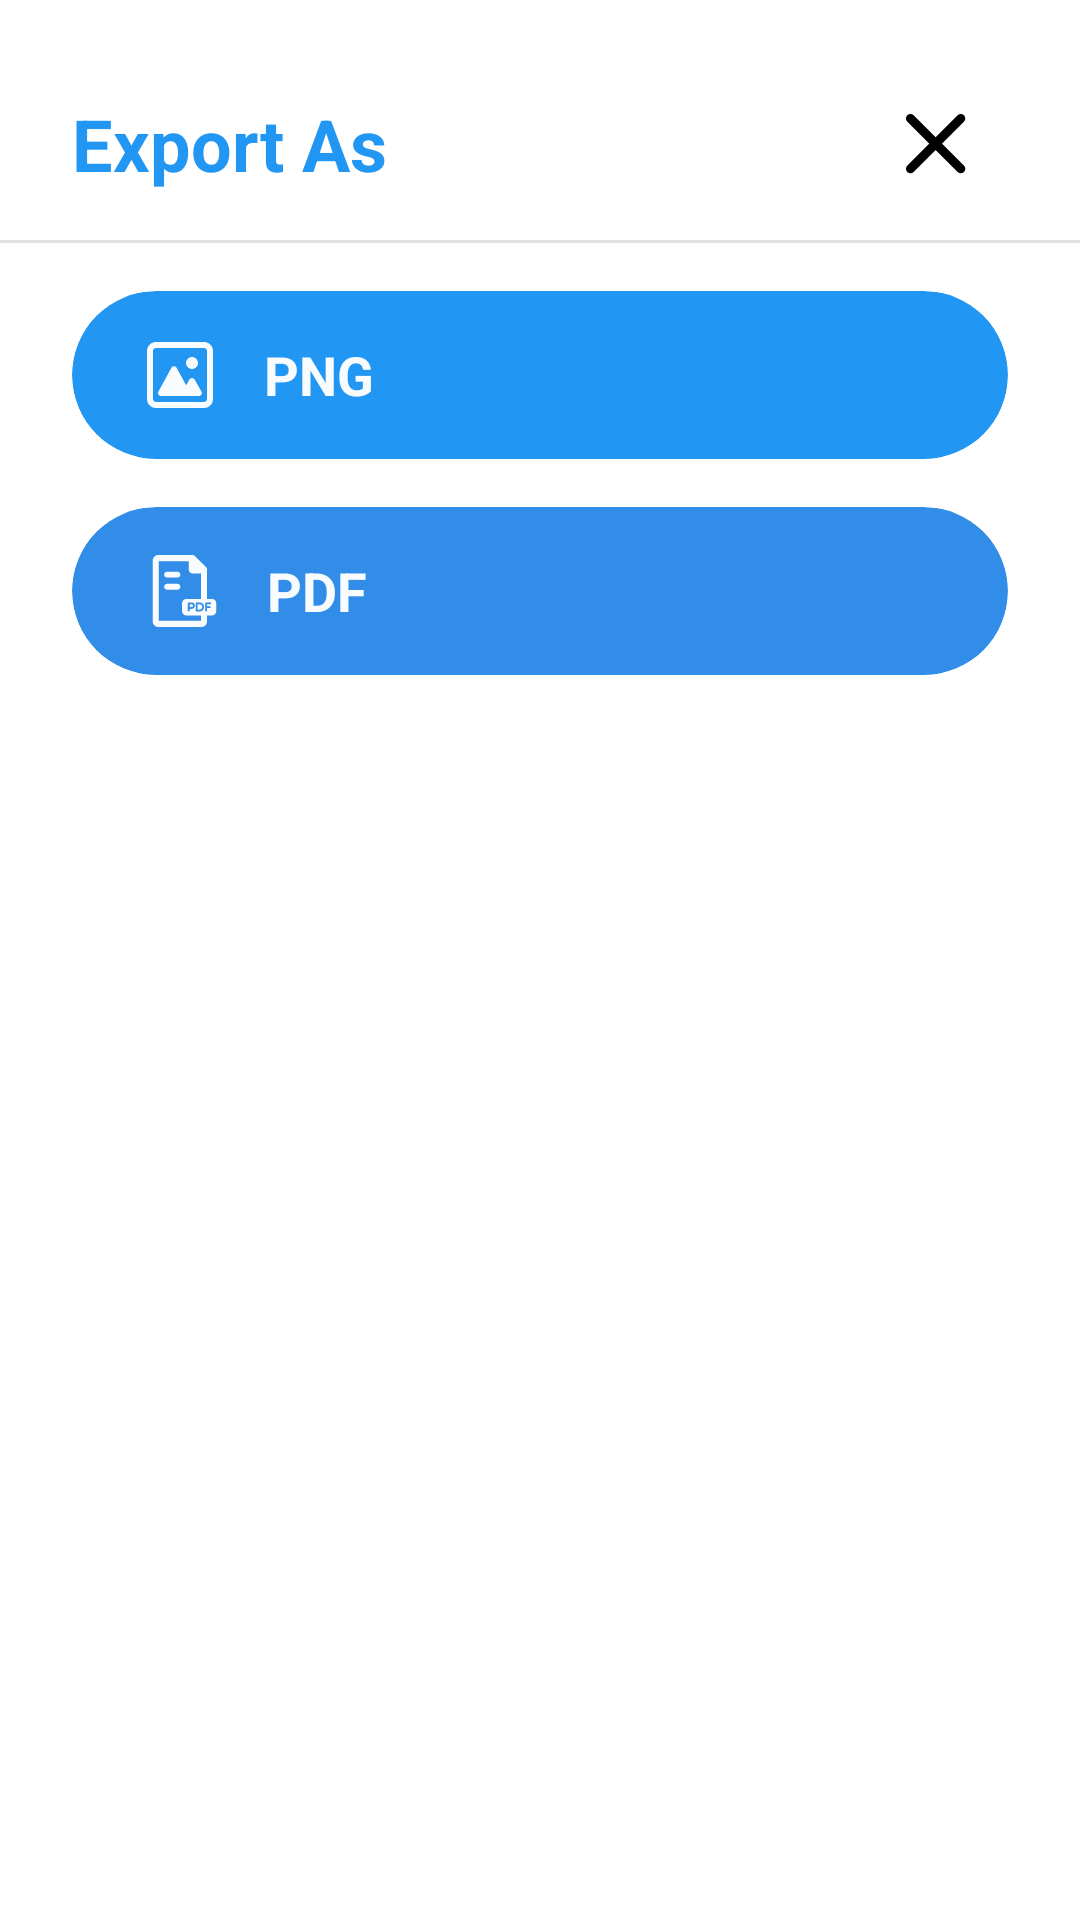

Screen size 1080*1920. Icon name, then its box in pixels as (x1, y1, x2, y2):
Close: (906, 114, 966, 174)
